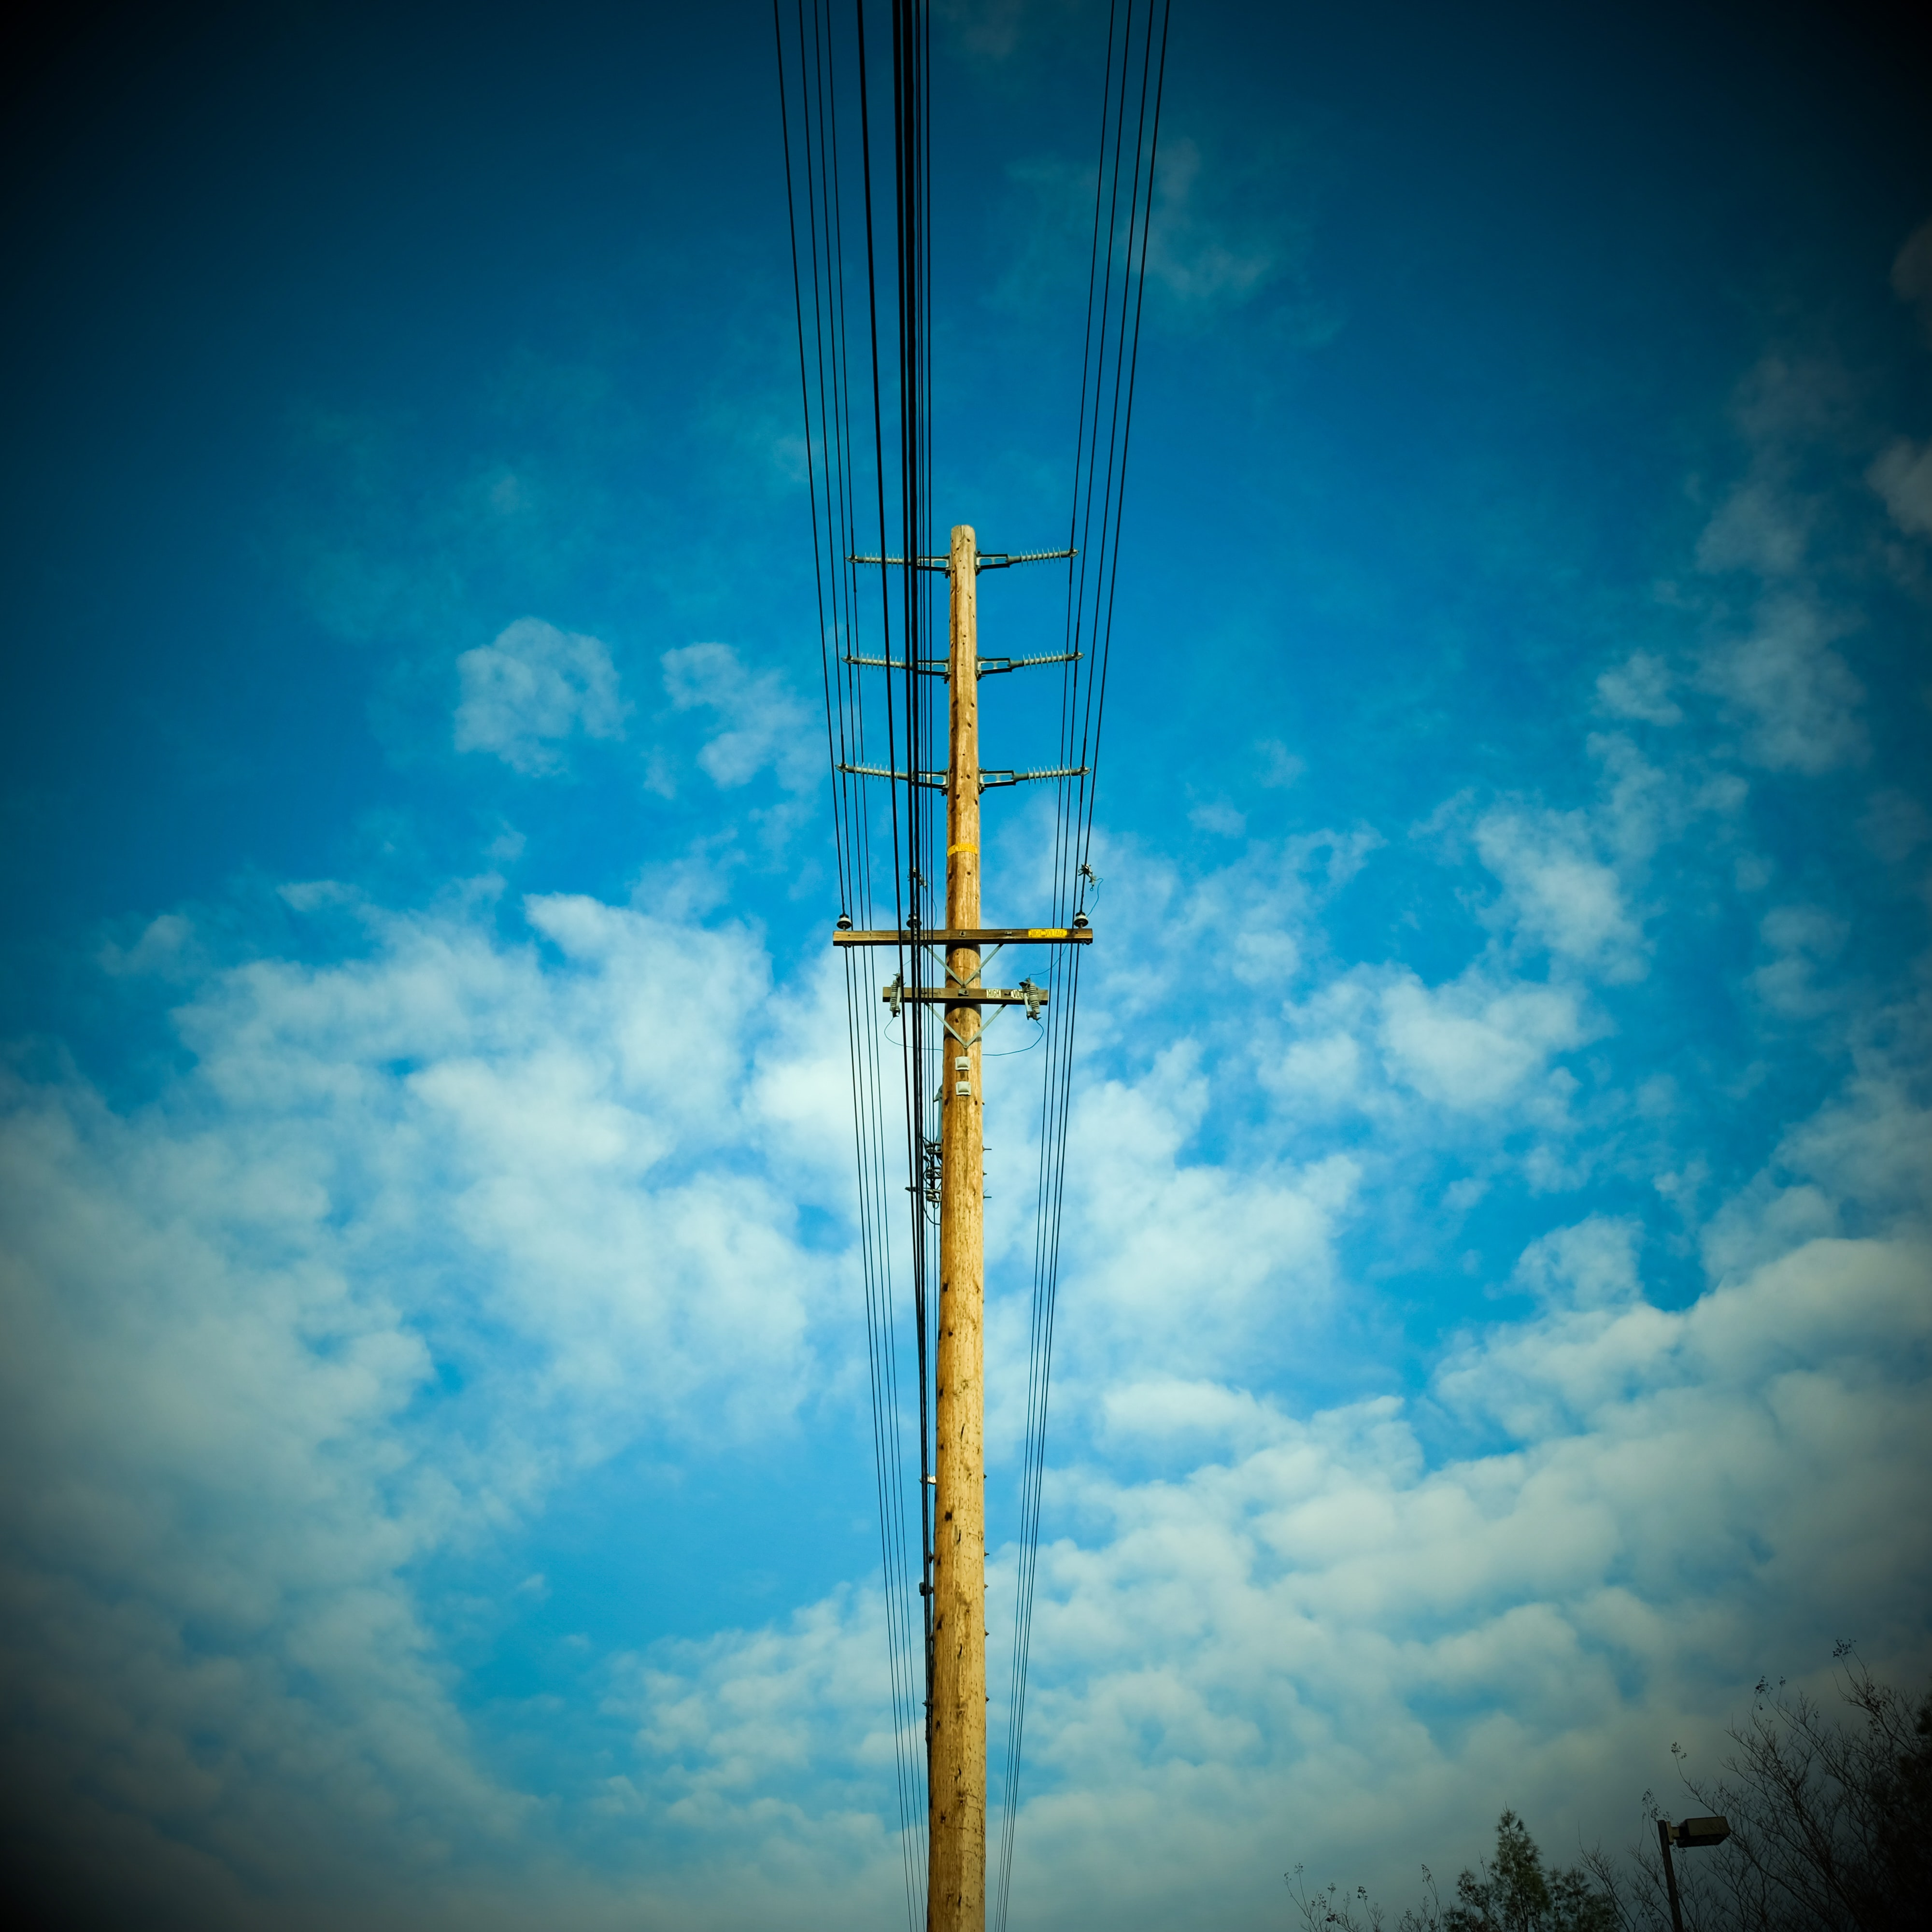utility_pole: (807, 490, 1120, 1044)
